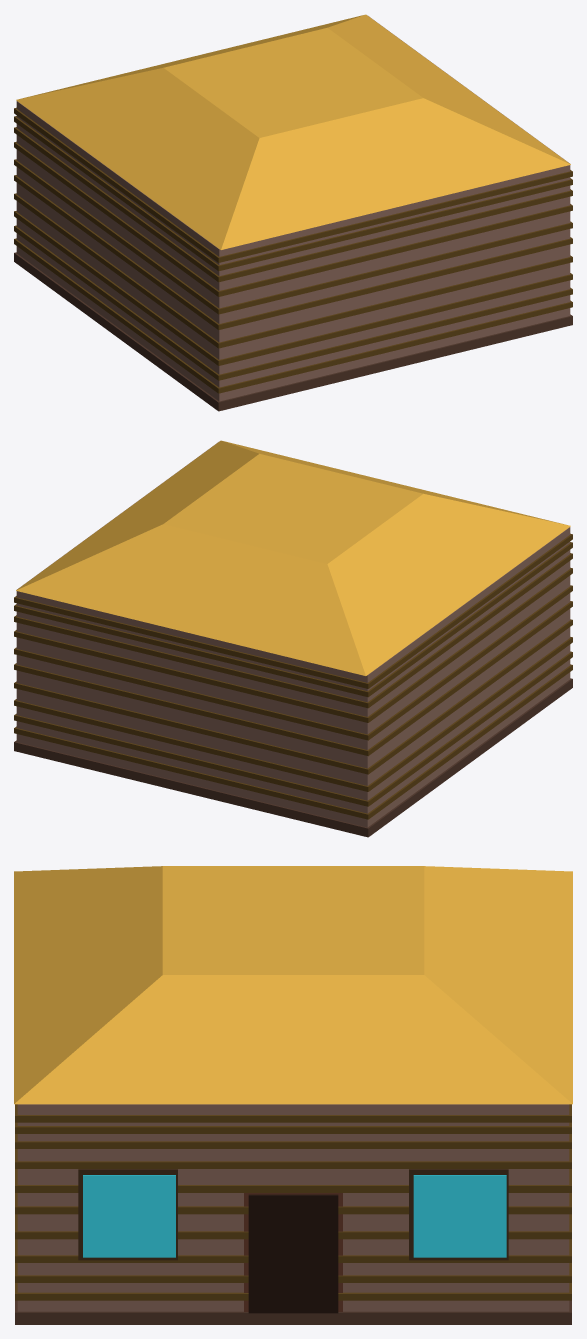
Rendered from home2.glb.
The picture shows the model from 3 angles, top to bottom: view 1: azimuth 30°, elevation 25°; view 2: azimuth 150°, elevation 25°; view 3: azimuth 270°, elevation 25°; orthographic projection. The views are drawn at different scales.
Visible parts, largest first — view 1: Cube.018, Cube.001, Cube, Cube.005, Cube.003, Cube.007, Cube.008, Cube.010, Cube.004, Cube.009, Cube.011, Cube.006 (+1 smaller); view 2: Cube.018, Cube.001, Cube, Cube.005, Cube.003, Cube.007, Cube.008, Cube.010, Cube.004, Cube.009, Cube.011, Cube.006 (+1 smaller); view 3: Cube.018, Cube.001, Cube.012, Cube.017, Cube.015, Cube, Cube.008, Cube.011, Cube.009, Cube.010, Cube.002, Cube.003 (+7 smaller).
Part boxes in pixels (bbox=[...]): Cube.018: bbox=[16, 14, 570, 249]; Cube.001: bbox=[16, 16, 570, 401]; Cube: bbox=[14, 252, 572, 411]; Cube.005: bbox=[14, 193, 572, 348]; Cube.003: bbox=[14, 225, 572, 380]; Cube.007: bbox=[14, 159, 572, 314]; Cube.008: bbox=[14, 141, 572, 296]; Cube.010: bbox=[14, 116, 572, 271]; Cube.004: bbox=[14, 211, 572, 365]; Cube.009: bbox=[14, 127, 572, 282]; Cube.011: bbox=[14, 107, 572, 262]; Cube.006: bbox=[14, 175, 572, 330]; Cube.018: bbox=[16, 440, 570, 675]; Cube.001: bbox=[16, 442, 570, 827]; Cube: bbox=[14, 678, 572, 837]; Cube.005: bbox=[14, 619, 572, 774]; Cube.003: bbox=[14, 651, 572, 806]; Cube.007: bbox=[14, 585, 572, 740]; Cube.008: bbox=[14, 567, 572, 722]; Cube.010: bbox=[14, 542, 572, 697]; Cube.004: bbox=[14, 637, 572, 791]; Cube.009: bbox=[14, 553, 572, 708]; Cube.011: bbox=[14, 533, 572, 688]; Cube.006: bbox=[14, 601, 572, 756]; Cube.018: bbox=[14, 866, 572, 1104]; Cube.001: bbox=[17, 1104, 569, 1311]; Cube.012: bbox=[248, 1194, 338, 1313]; Cube.017: bbox=[413, 1175, 506, 1257]; Cube.015: bbox=[83, 1175, 175, 1257]; Cube: bbox=[15, 1300, 571, 1324]; Cube.008: bbox=[15, 1149, 571, 1168]; Cube.011: bbox=[15, 1104, 571, 1122]; Cube.009: bbox=[15, 1134, 571, 1148]; Cube.010: bbox=[15, 1122, 571, 1133]; Cube.002: bbox=[15, 1283, 571, 1300]; Cube.003: bbox=[15, 1263, 571, 1282].
Size of the model in its own units: 20.56 by 11.63 by 20.57.
